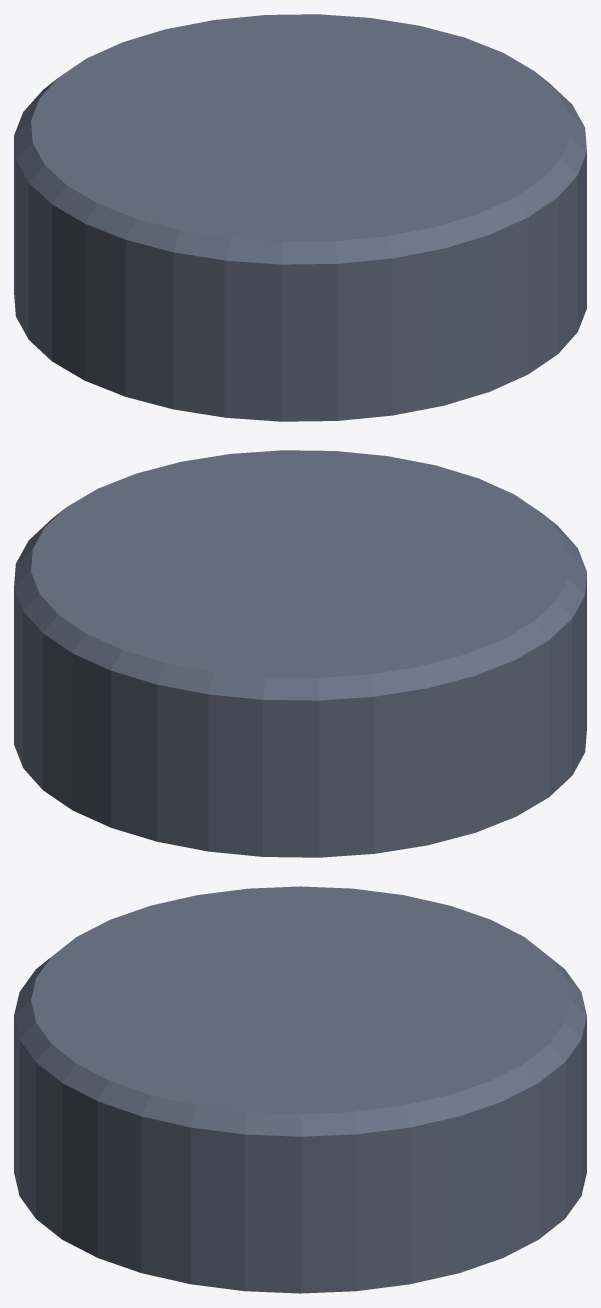
The model's file is Platform.fbx.
3 renders of one model, top to bottom at view 1: azimuth 30°, elevation 25°; view 2: azimuth 150°, elevation 25°; view 3: azimuth 270°, elevation 25°, orthographic.
Parts seen in each view (by area): view 1: Cylinder.002; view 2: Cylinder.002; view 3: Cylinder.002.
Part boxes in pixels (box(x1,y1,x2,y2)): Cylinder.002: box(14, 14, 586, 421); Cylinder.002: box(14, 450, 586, 857); Cylinder.002: box(14, 886, 586, 1293).
Bounding box in the file's own units: 1272 × 1272 × 422.
